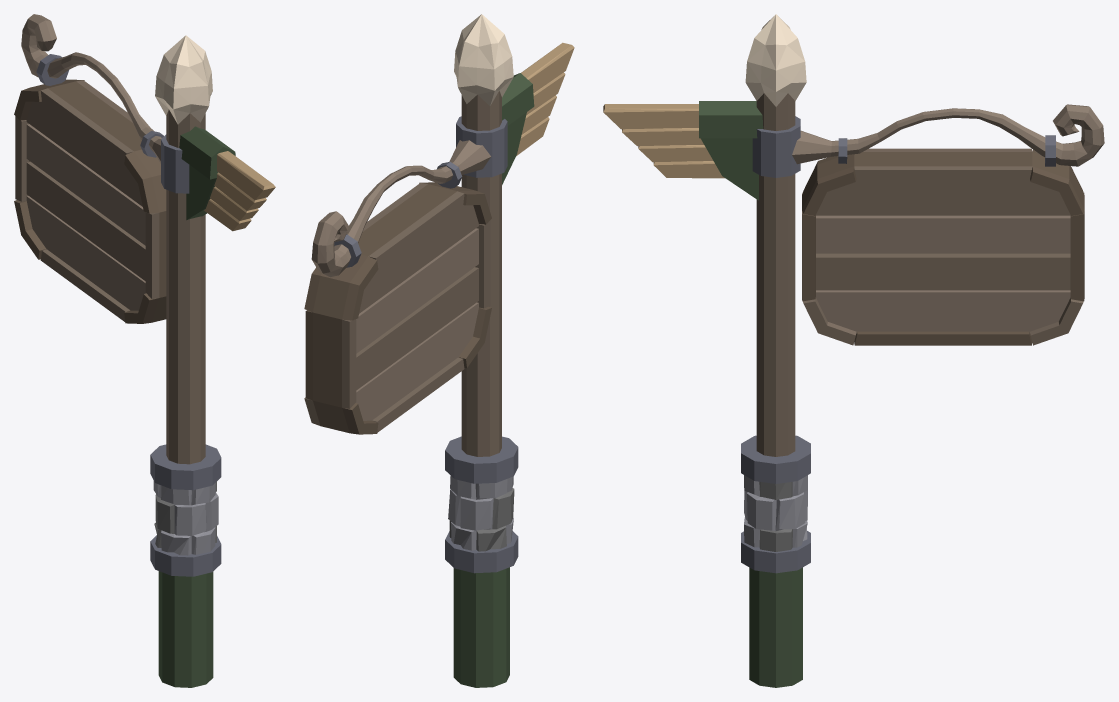
File: _pointer_1.fbx
The picture shows the model from 3 angles, left to right: view 1: azimuth 30°, elevation 25°; view 2: azimuth 150°, elevation 25°; view 3: azimuth 270°, elevation 25°; orthographic projection. The views are drawn at different scales.
Visible parts, largest first — view 1: pointer_1; view 2: pointer_1; view 3: pointer_1.
Boxes of the visible parts, x1,y1,x2,y2 form: pointer_1: (14, 14, 275, 687); pointer_1: (304, 14, 574, 687); pointer_1: (603, 14, 1104, 687).
Bounding box in the file's own units: 37.17 × 368 × 253.
